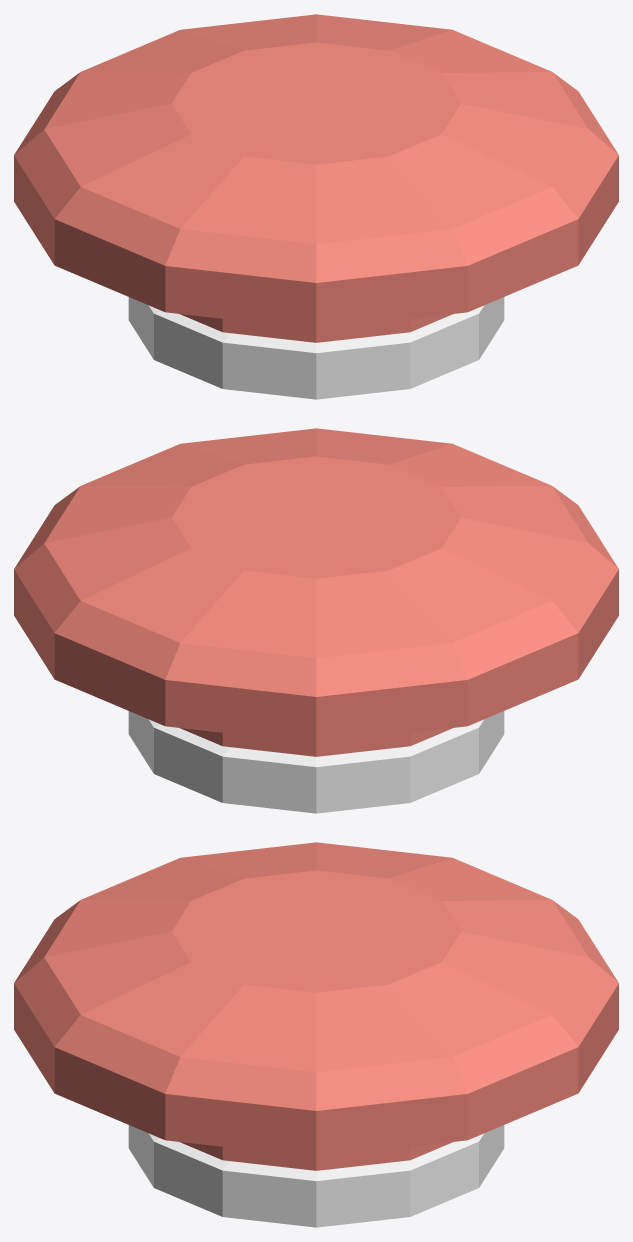
File: button_cap1.fbx
The picture shows the model from 3 angles, top to bottom: view 1: azimuth 30°, elevation 25°; view 2: azimuth 150°, elevation 25°; view 3: azimuth 270°, elevation 25°; orthographic projection.
Visible parts, largest first — view 1: mesh582483371; view 2: mesh582483371; view 3: mesh582483371.
Part boxes in pixels (x1,y1,x2,y2): mesh582483371: [14, 14, 618, 399]; mesh582483371: [14, 428, 618, 813]; mesh582483371: [14, 842, 618, 1227].
Size of the model in its own units: 11 by 4.35 by 11.
